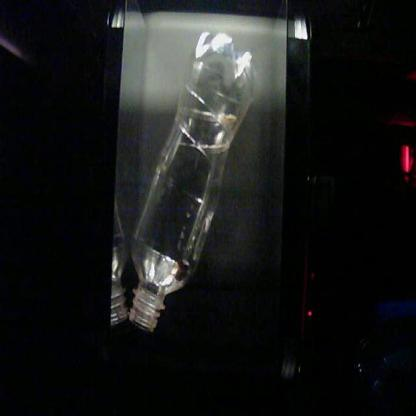Plastic Bottle: (129, 32, 253, 332)
